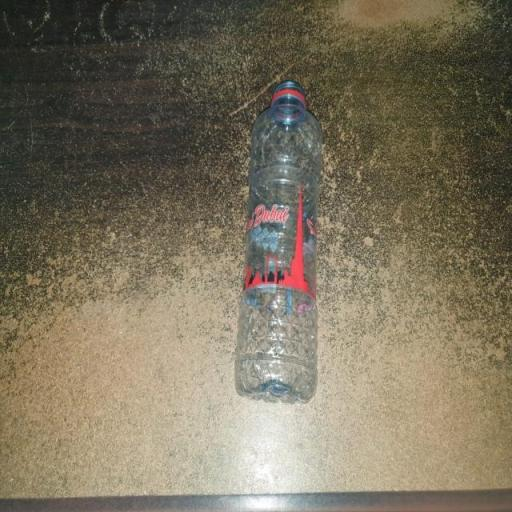plastic: (231, 76, 327, 418)
